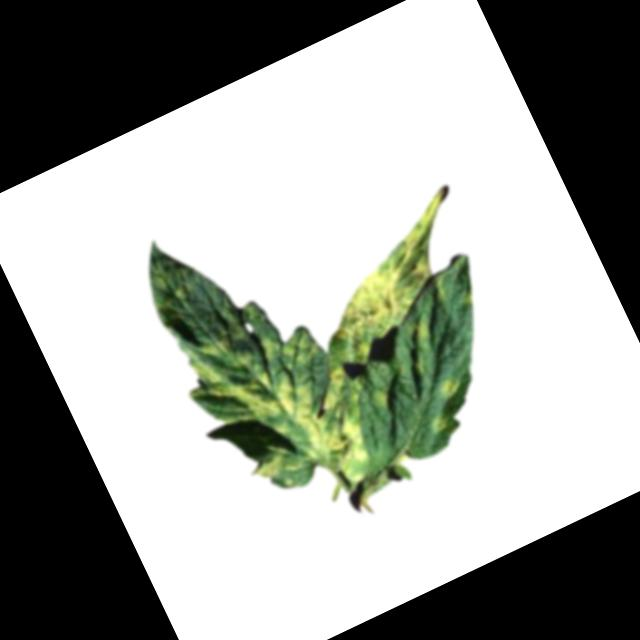Leaf_Mold: (170, 292, 389, 530), (296, 181, 506, 355), (247, 449, 291, 487), (365, 383, 395, 416), (433, 370, 466, 399), (426, 415, 449, 436)
